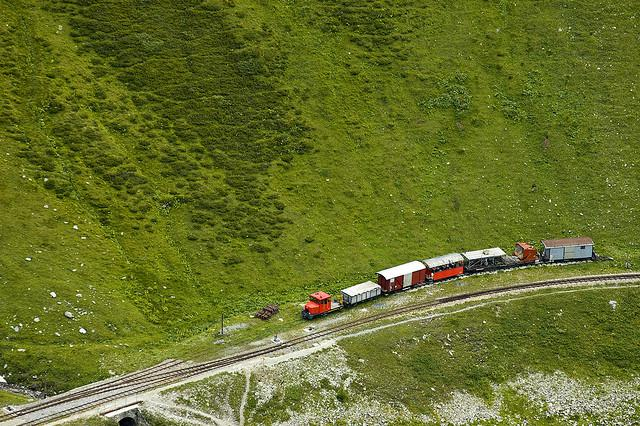Train: (300, 235, 594, 316)
